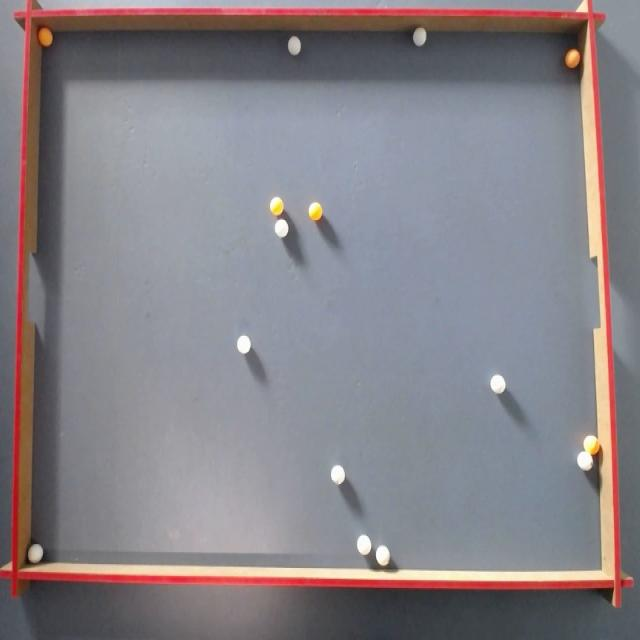orange_ball: (584, 435, 599, 455), (565, 49, 580, 68), (38, 27, 52, 46), (309, 202, 322, 220), (270, 197, 283, 215)
white_ball: (490, 374, 506, 394), (28, 544, 44, 564), (577, 451, 593, 471), (357, 535, 371, 555), (376, 546, 390, 566), (237, 335, 251, 354), (274, 220, 288, 238), (413, 27, 426, 46), (331, 465, 344, 484), (288, 36, 300, 54)
